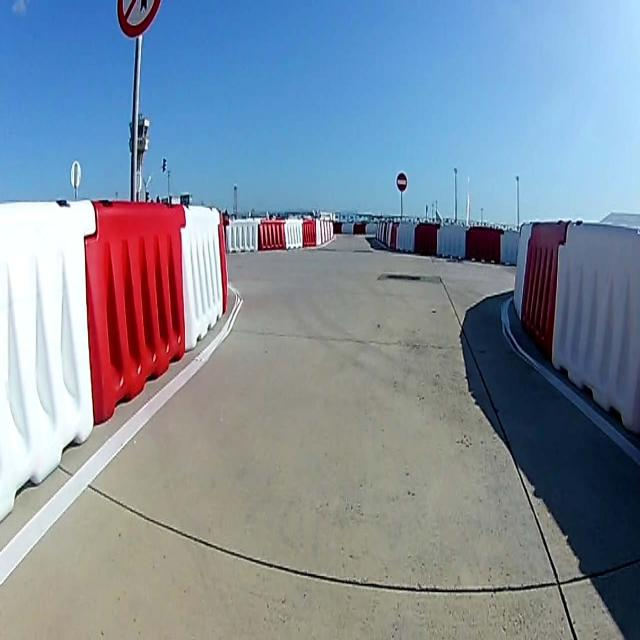girisyok: (397, 173, 407, 191)
